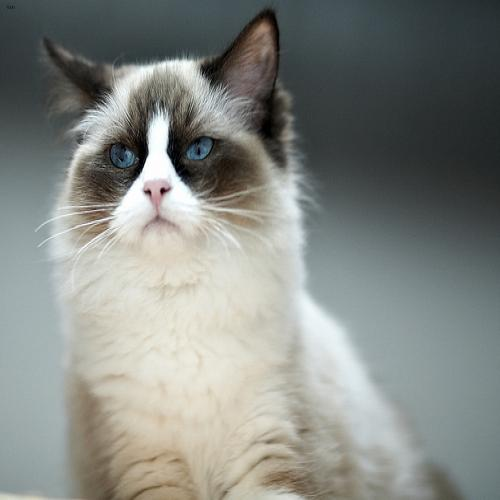ragdoll: (31, 6, 319, 353)
